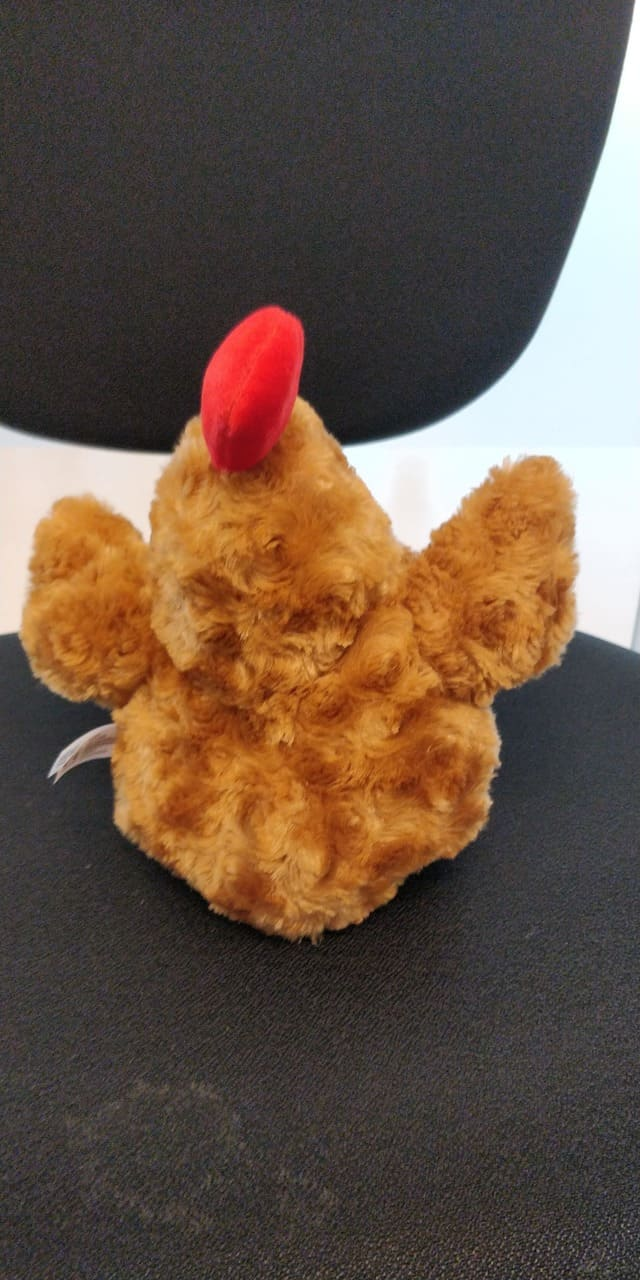fakeChicken: (20, 302, 580, 940)
